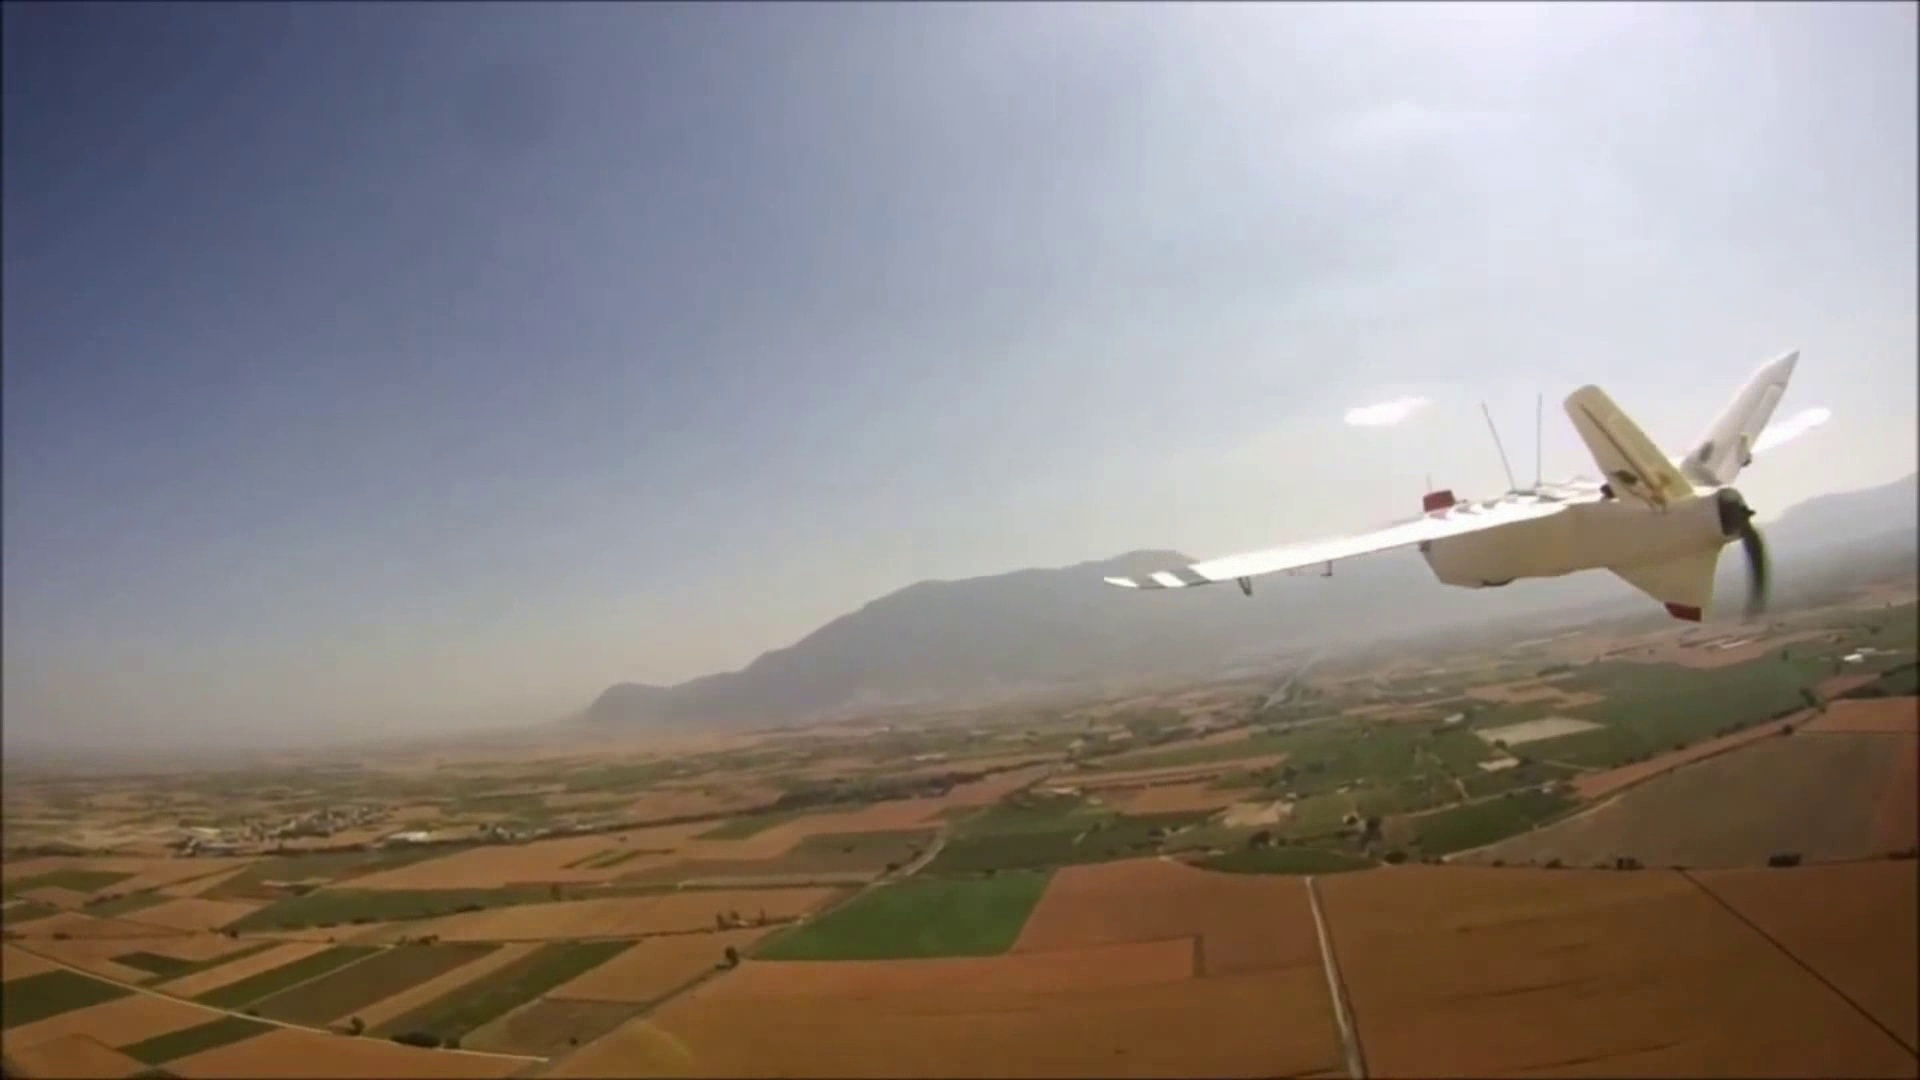airplane: (1116, 345, 1874, 626)
